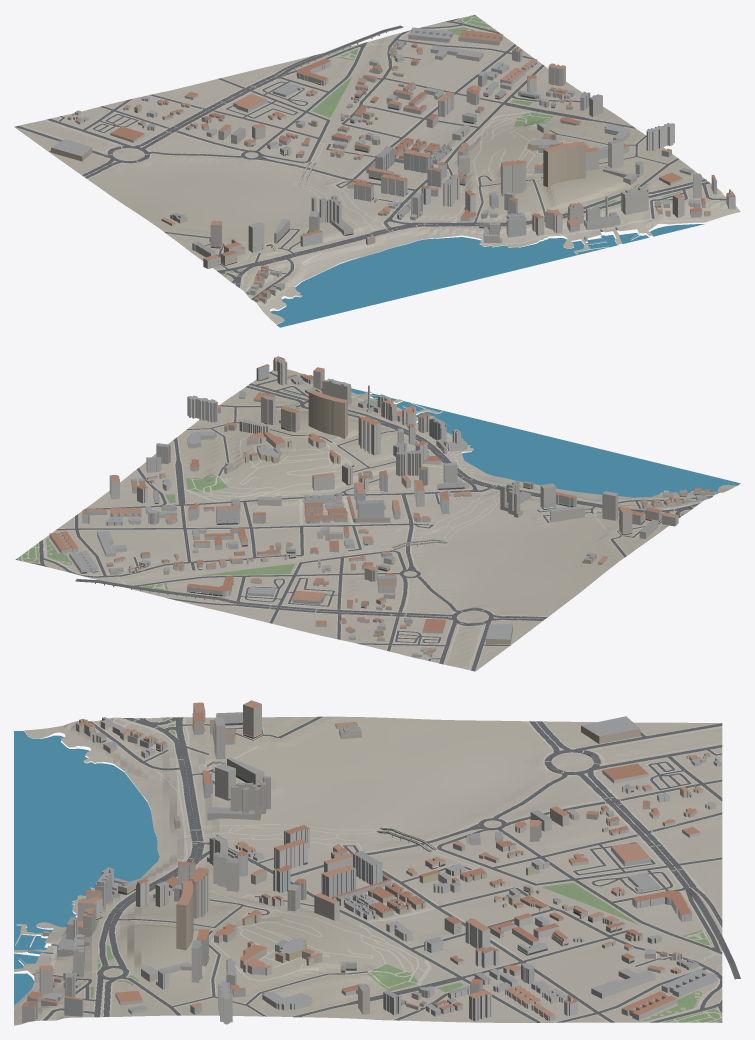
3 renders of one model, top to bottom at view 1: azimuth 30°, elevation 25°; view 2: azimuth 150°, elevation 25°; view 3: azimuth 270°, elevation 25°, orthographic. The views are drawn at different scales.
Visible parts, largest first — view 1: Ground, Walls, Sidewalk, Water, Roofs, Road, Park, Struct, Deck; view 2: Ground, Walls, Sidewalk, Roofs, Road, Water, Park, Struct, Detail, Deck; view 3: Ground, Walls, Water, Roofs, Sidewalk, Road, Park, Deck, Struct, Detail.
Boxes of the visible parts, box(x1,y1,x2,y2) form: Ground: box(15, 19, 740, 324); Walls: box(51, 30, 735, 303); Sidewalk: box(14, 15, 726, 300); Water: box(270, 224, 704, 327); Roofs: box(51, 27, 735, 299); Road: box(14, 15, 726, 300); Park: box(221, 15, 707, 276); Struct: box(107, 25, 403, 250); Deck: box(107, 25, 402, 251); Ground: box(34, 369, 736, 670); Walls: box(49, 357, 714, 657); Sidewalk: box(17, 371, 713, 671); Roofs: box(49, 356, 714, 654); Road: box(15, 371, 712, 671); Water: box(351, 388, 740, 497); Park: box(18, 385, 684, 590); Struct: box(75, 485, 601, 625); Detail: box(81, 377, 700, 634); Deck: box(76, 486, 597, 625); Ground: box(14, 716, 722, 1025); Walls: box(22, 704, 721, 1024); Water: box(14, 731, 159, 1004); Roofs: box(22, 700, 720, 1016); Sidewalk: box(14, 716, 722, 1022); Road: box(42, 716, 722, 1022); Park: box(90, 717, 722, 1022); Deck: box(190, 751, 740, 979); Struct: box(190, 750, 740, 978); Detail: box(75, 709, 656, 1020).
Size of the model in its own units: 1041 by 101 by 1027.
